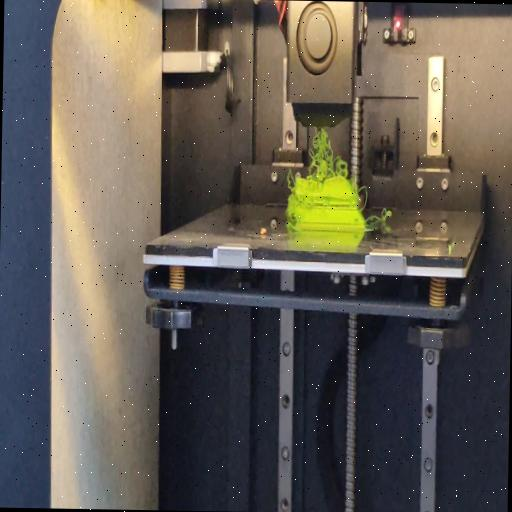spaghetti: (304, 126, 350, 182), (363, 208, 391, 228), (356, 183, 368, 209), (289, 165, 294, 194), (284, 219, 296, 231)
